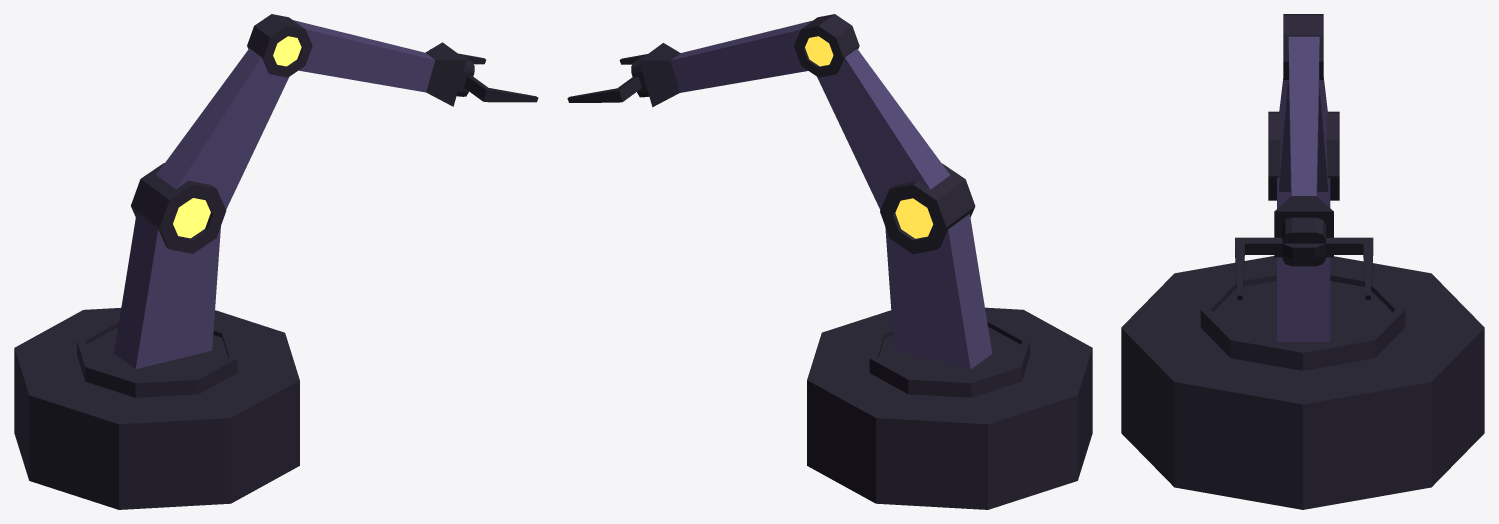
The model's file is Robot_Arm.fbx.
3 renders of one model, left to right at view 1: azimuth 30°, elevation 25°; view 2: azimuth 150°, elevation 25°; view 3: azimuth 270°, elevation 25°, orthographic. The views are drawn at different scales.
Parts seen in each view (by area): view 1: Robot_Arm, Arm, Hand; view 2: Robot_Arm, Arm, Hand; view 3: Robot_Arm, Arm, Hand.
Part boxes in pixels (box(x1,y1,x2,y2)): Robot_Arm: box(14, 308, 299, 509); Arm: box(114, 14, 435, 368); Hand: box(425, 42, 538, 106); Robot_Arm: box(807, 307, 1092, 509); Arm: box(670, 14, 992, 369); Hand: box(567, 43, 680, 107); Robot_Arm: box(1121, 256, 1484, 509); Arm: box(1268, 14, 1339, 341); Hand: box(1235, 196, 1373, 299).
Size of the model in its own units: 2.36 by 1.87 by 1.25.
